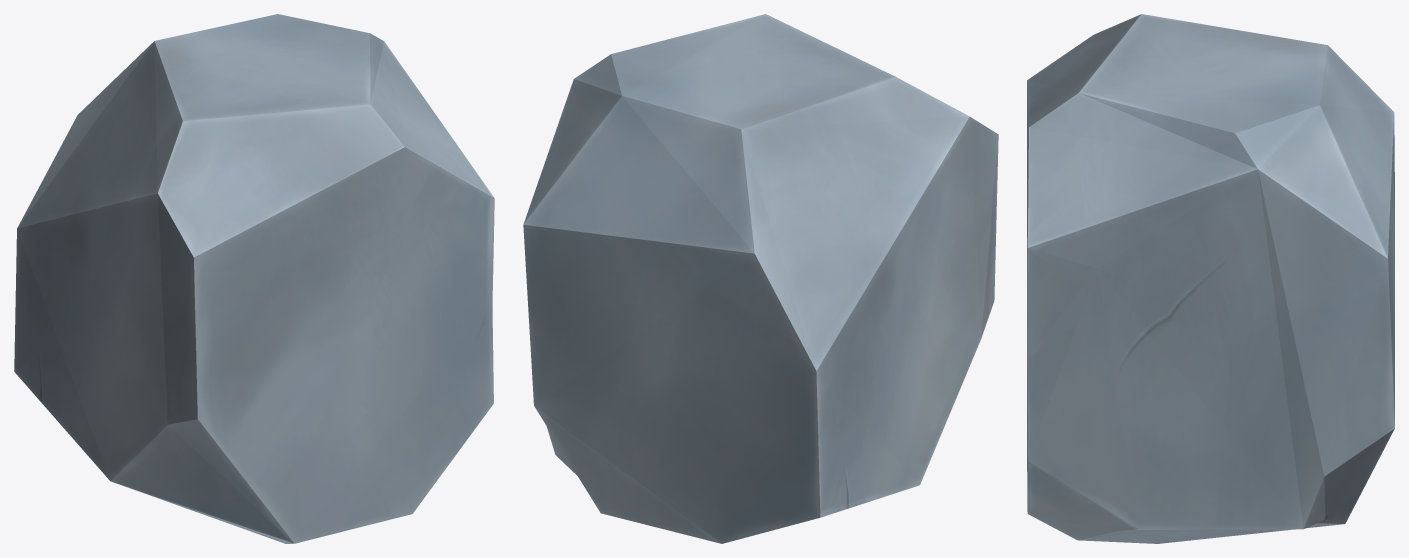
The model's file is Stone_002.fbx.
3 renders of one model, left to right at view 1: azimuth 30°, elevation 25°; view 2: azimuth 150°, elevation 25°; view 3: azimuth 270°, elevation 25°, orthographic. The views are drawn at different scales.
Visible parts, largest first — view 1: Stone_002; view 2: Stone_002; view 3: Stone_002.
Boxes of the visible parts, x1,y1,x2,y2 form: Stone_002: (14, 14, 494, 543); Stone_002: (523, 14, 998, 543); Stone_002: (1027, 14, 1394, 543).
Size of the model in its own units: 82.77 by 118 by 82.76.
1 material, 1 textured.
